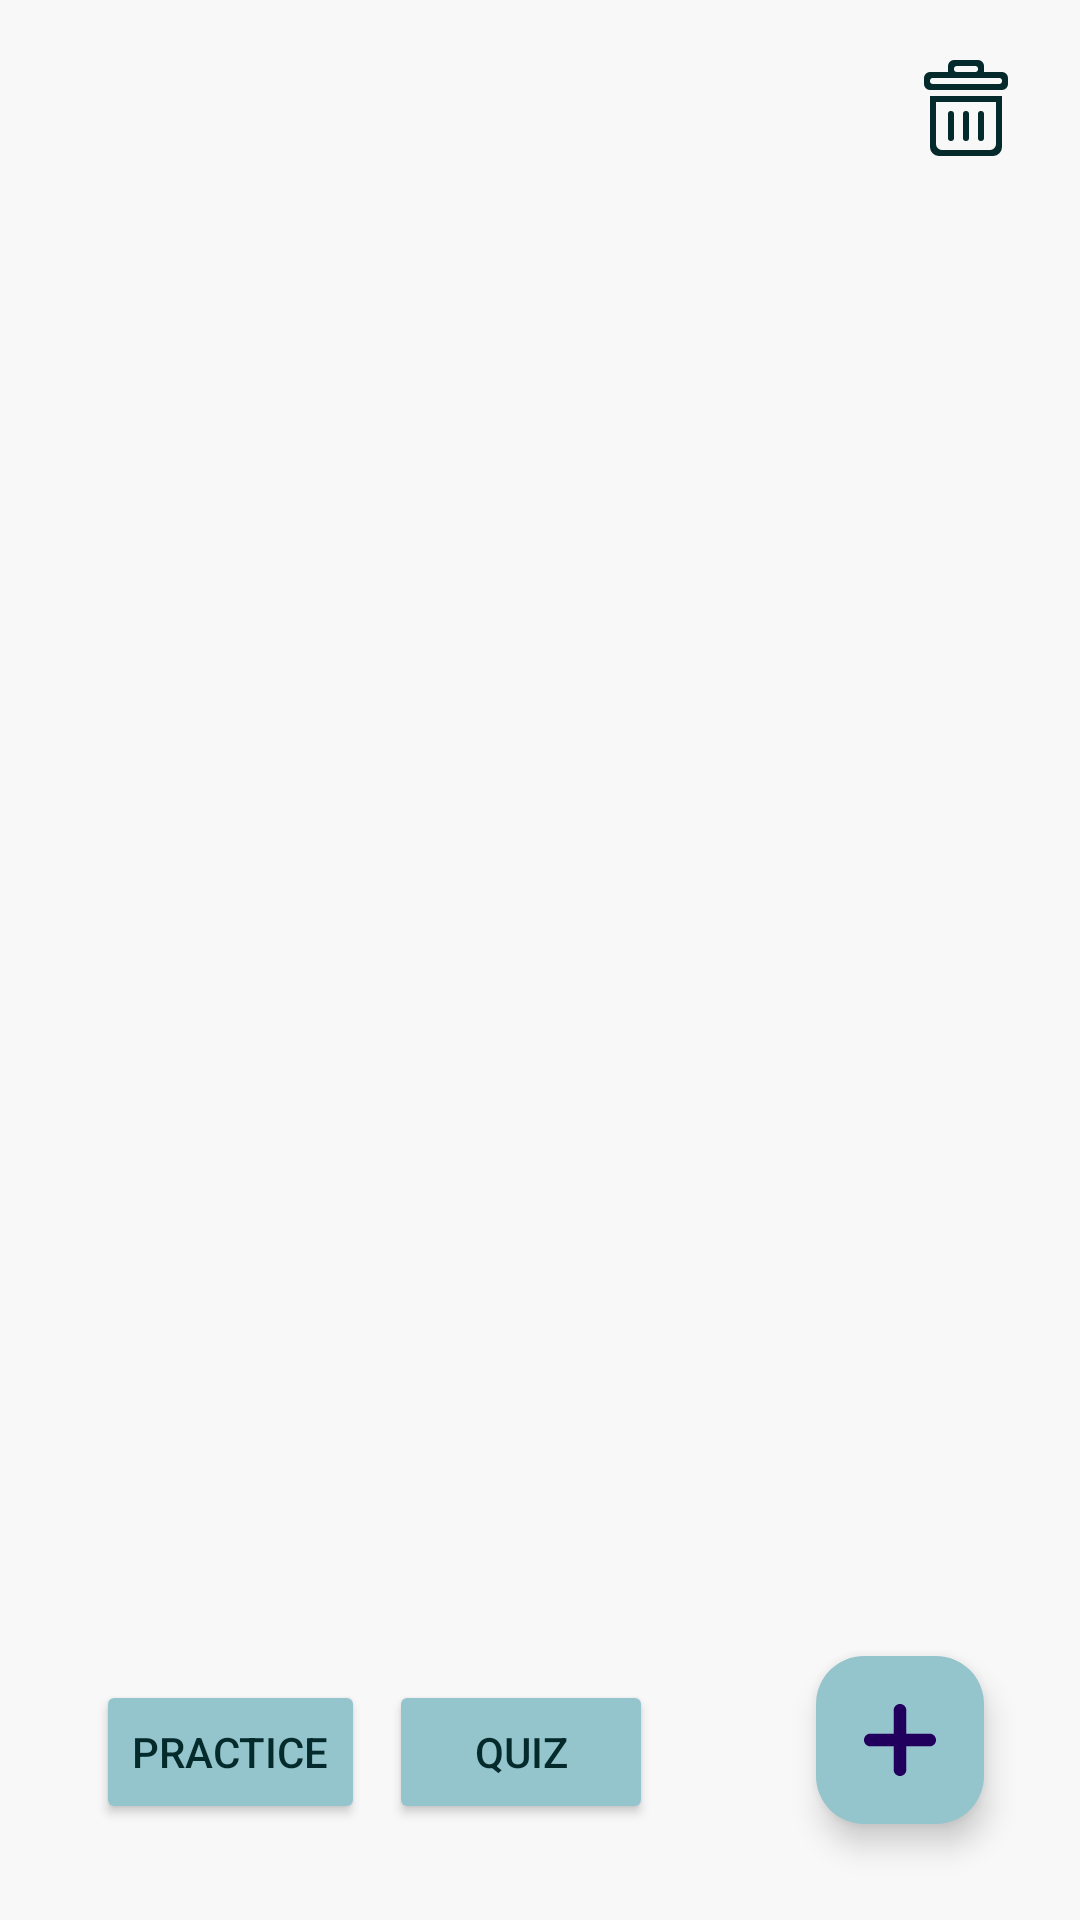

Where icons sit on this 1080px×1920px app screen, as (x1, y1, x2, y2):
plus: (816, 1656, 984, 1824)
trash: (924, 60, 1008, 156)
